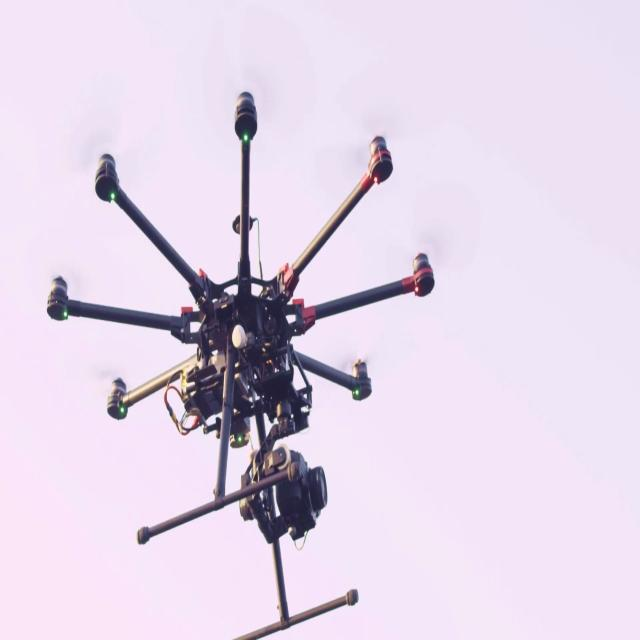drone: (46, 116, 426, 640)
